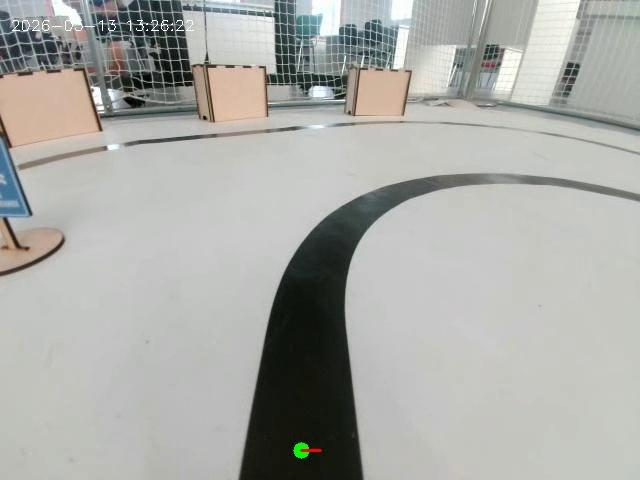flood: (0, 95, 88, 283)
